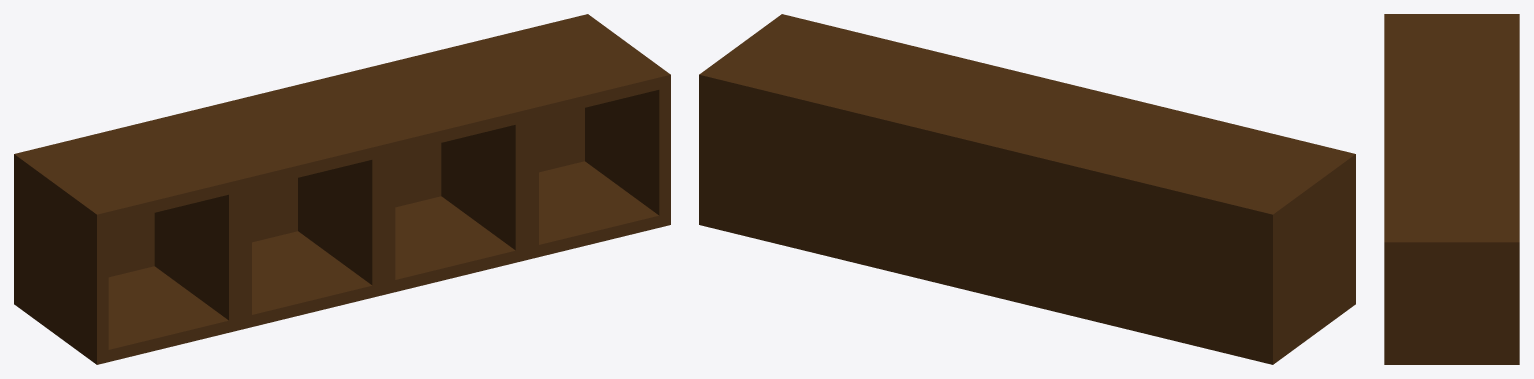
The model's file is Cage_B.fbx.
3 renders of one model, left to right at view 1: azimuth 30°, elevation 25°; view 2: azimuth 150°, elevation 25°; view 3: azimuth 270°, elevation 25°, orthographic. The views are drawn at different scales.
Parts seen in each view (by area): view 1: CAge_b.001; view 2: CAge_b.001; view 3: CAge_b.001.
Boxes of the visible parts, x1,y1,x2,y2 form: CAge_b.001: [14, 14, 670, 364]; CAge_b.001: [699, 14, 1355, 364]; CAge_b.001: [1384, 14, 1519, 364].
Size of the model in its own units: 3955 by 990 by 990.
